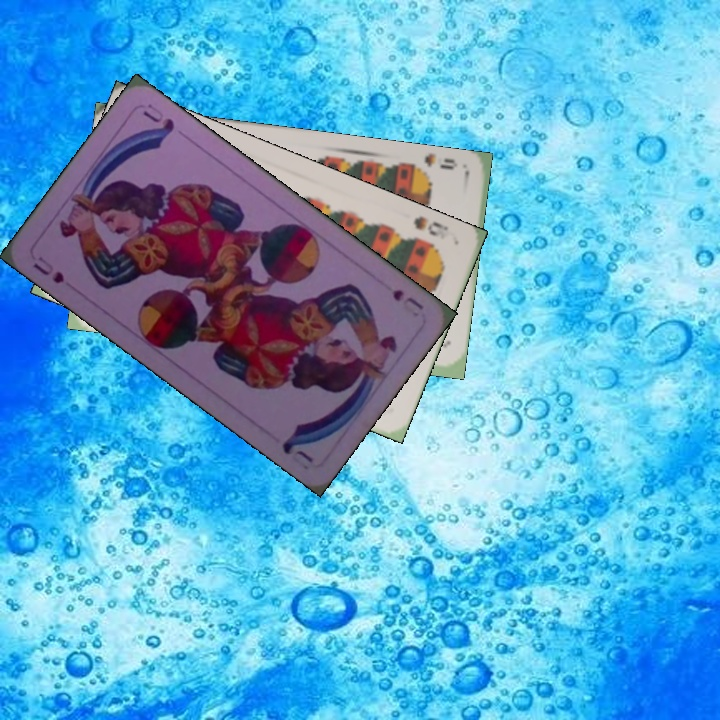S8: (409, 212, 457, 242)
S9: (405, 151, 460, 177)
SU: (29, 252, 67, 286), (388, 285, 427, 314)
